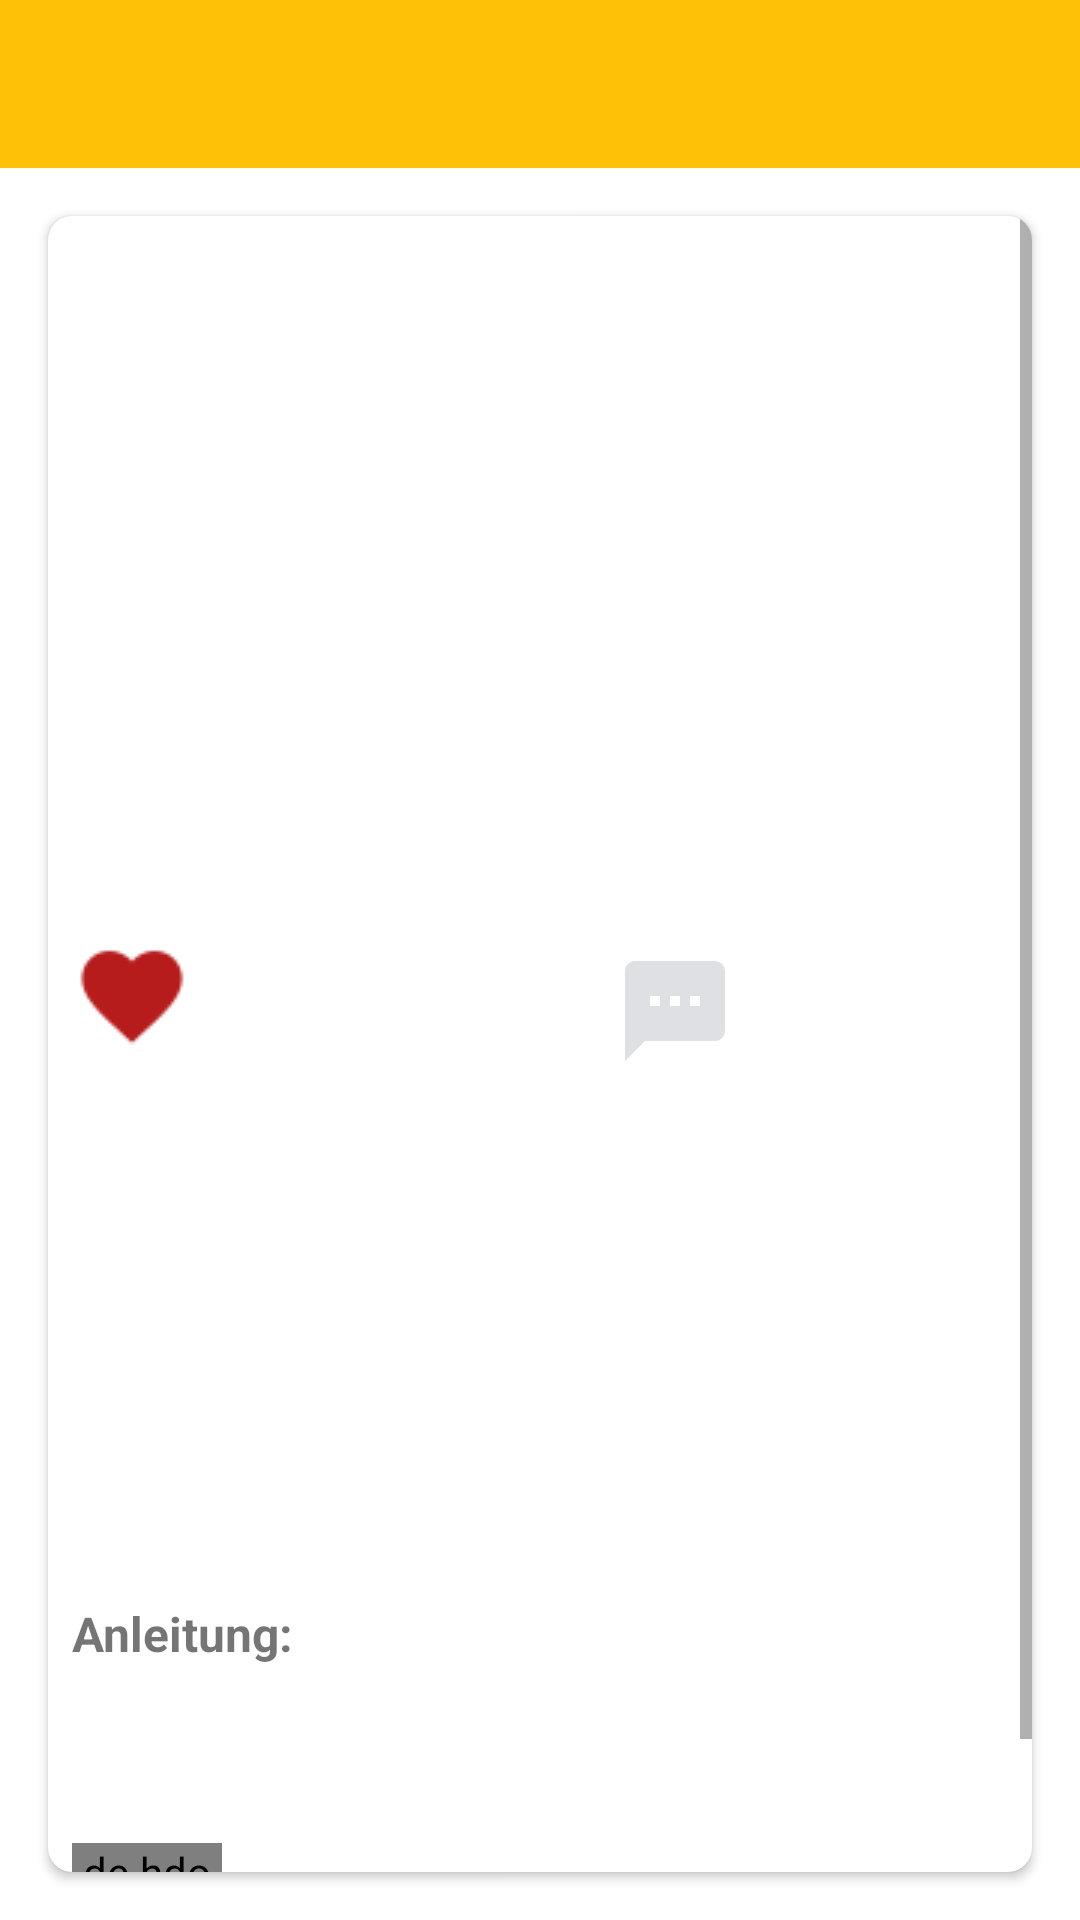

Icon click points for this 1080px x 1920px phone screenshot, format (x,y):
comments: (675,1010)
heart liked: (132,997)
